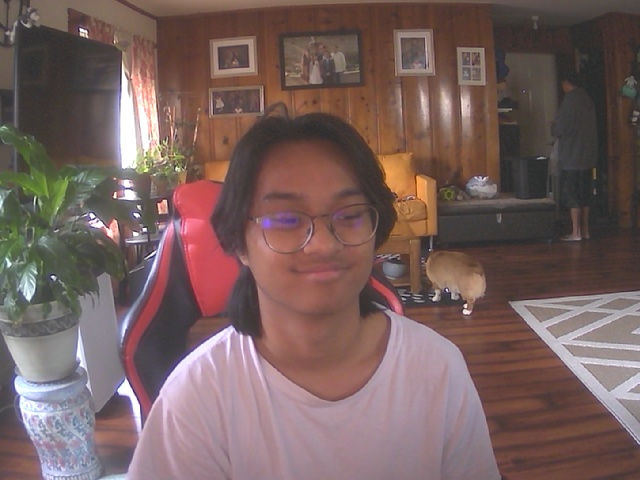happy: (234, 124, 388, 321)
